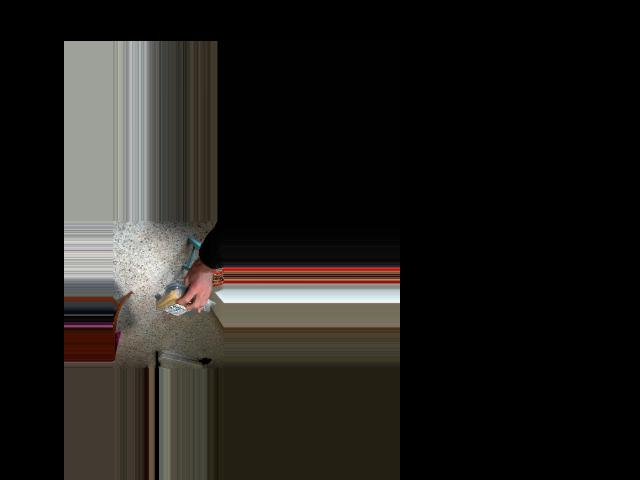cheese: (153, 287, 198, 317)
